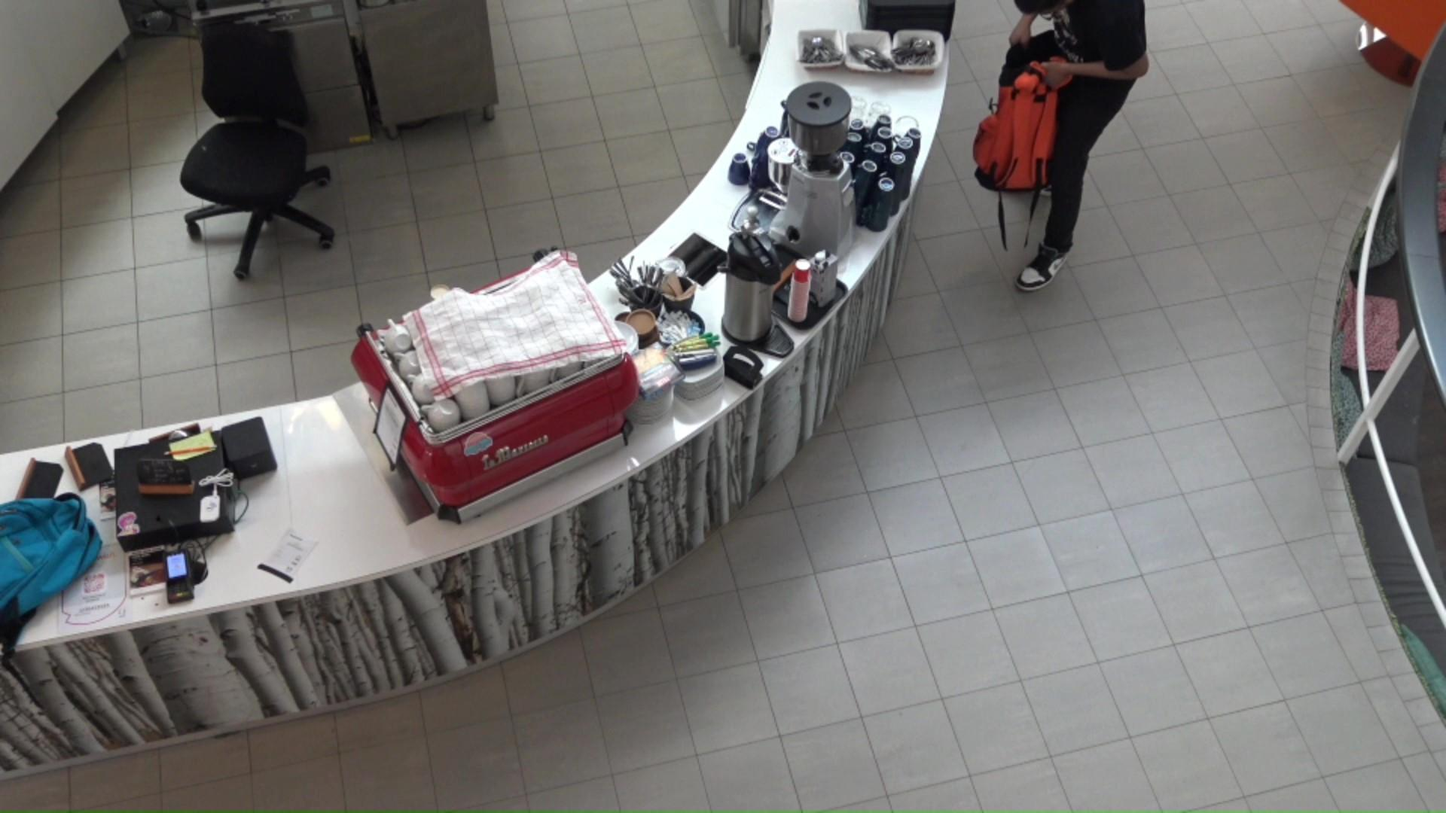shoplifting: (978, 0, 1153, 294)
